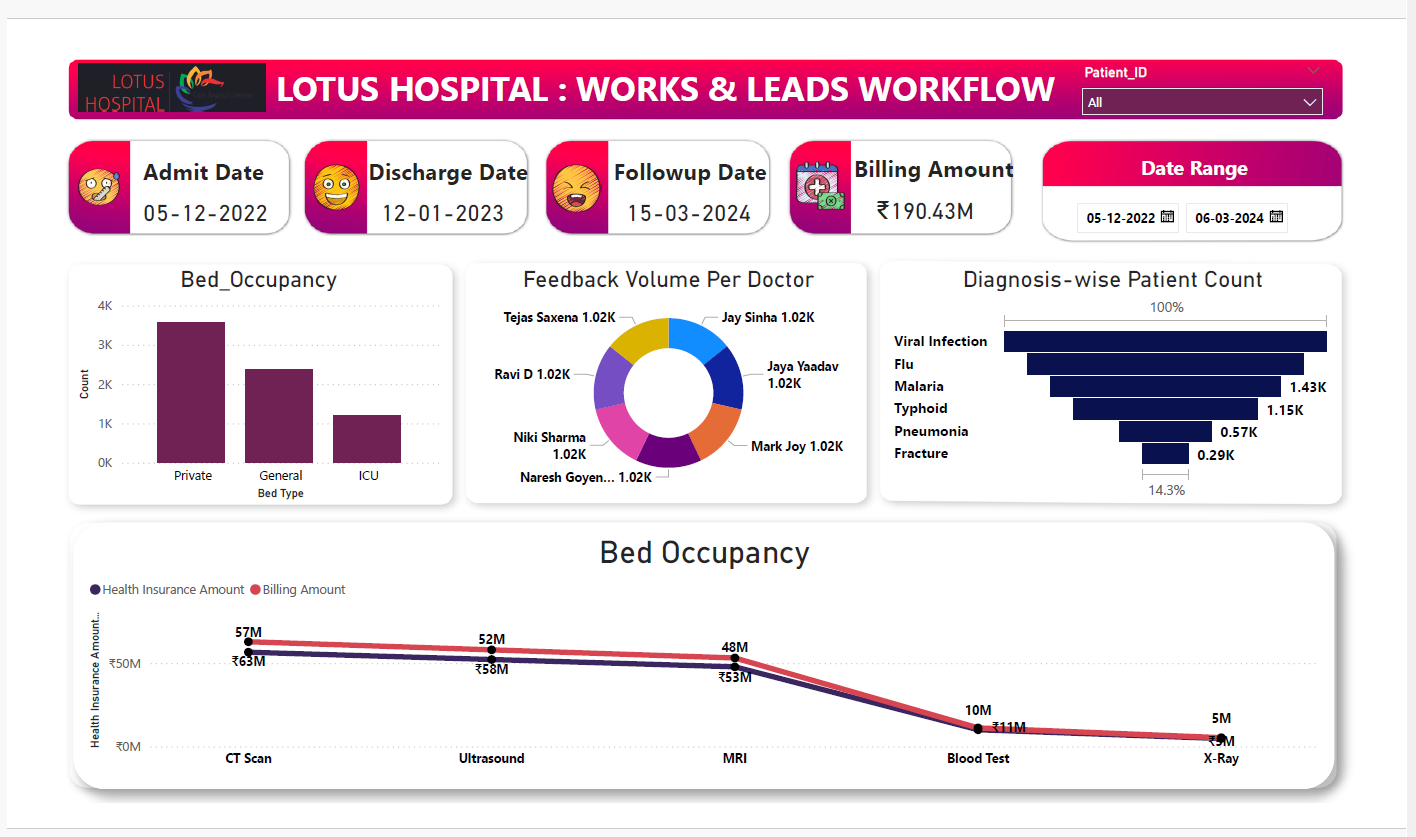

The dashboard page shown, as its layout file describes it:
{"tool":"powerbi","page":{"name":"Page 1","canvas":[1280,720],"ordinal":0},"visuals":[{"type":"image","box":[38.6,0,187,82],"z":0},{"type":"textbox","box":[225.6,14.5,849.3,54.3],"z":1000},{"type":"slicer","fields":{"Values":["Sheet1.Patient_ID"]},"box":[985.7,14.5,249.7,54.3],"z":2000},{"type":"cardVisual","fields":{"Data":["Sheet1.Admit_Date"]},"box":[88.1,123.1,154.4,57.9],"z":3000},{"type":"textbox","box":[100.1,101.3,162.9,50.7],"z":4000},{"type":"cardVisual","fields":{"Data":["Sheet1.Discharge_Date"]},"box":[313.7,123.1,154.4,57.9],"z":5000},{"type":"textbox","box":[313.7,101.3,173.7,50.7],"z":6000},{"type":"cardVisual","fields":{"Data":["Sheet1.Followup Date"]},"box":[546.5,123.1,154.4,57.9],"z":7000},{"type":"textbox","box":[546.5,101.3,173.7,50.7],"z":8000},{"type":"textbox","box":[774.5,97.7,173.7,50.7],"z":9000},{"type":"cardVisual","fields":{"Data":["Sheet1.Billing Amount"]},"box":[784.2,119.4,137.5,57.9],"z":10000},{"type":"image","box":[38.6,101.3,49.5,67.6],"z":11000},{"type":"image","box":[254.6,108.6,67.6,54.3],"z":12000},{"type":"image","box":[487.4,108.6,59.1,56.7],"z":13000},{"type":"image","box":[720.2,101.3,55.5,65.1],"z":14000},{"type":"textbox","box":[1026.7,98.9,152,37.4],"z":15000},{"type":"slicer","fields":{"Values":["Sheet1.Admit_Date"]},"box":[978.8,141.2,247.5,56.2],"z":16000},{"type":"columnChart","title":"Bed_Occupancy ","fields":{"Y":["Sheet1.Bed_Occupancy"],"Category":["Sheet1.Bed_Occupancy"]},"box":[38.6,209.9,352.3,226.8],"z":17000},{"type":"donutChart","title":"Feedback Volume Per Doctor","fields":{"Category":["Sheet1.Doctor"],"Y":["Sheet1.Doctor"]},"box":[412.6,209.9,382.4,218.4],"z":18000},{"type":"funnel","title":"Diagnosis-wise Patient Count","fields":{"Category":["Sheet1.Diagnosis"],"Y":["Sheet1.Diagnosis"]},"box":[813.1,209.9,425.9,226.8],"z":19000},{"type":"lineChart","title":"Bed Occupancy","fields":{"Y":["Sheet1.Health Insurance Amount","Sheet1.Billing Amount"],"Category":["Sheet1.Test"]},"box":[38.6,454.3,1197.1,252.9],"z":20000}]}

Visuals, with their boxes on the page's 1280x720 design canvas (x1, y1, x2, y2). These are canvas units, not pixel positions in the 1416x837 screenshot, which may show the page scaled, cropped or inside an application window:
image: bbox=[39, 0, 226, 82]
textbox: bbox=[226, 14, 1075, 69]
slicer - Sheet1.Patient_ID: bbox=[986, 14, 1235, 69]
cardVisual - Sheet1.Admit_Date: bbox=[88, 123, 242, 181]
textbox: bbox=[100, 101, 263, 152]
cardVisual - Sheet1.Discharge_Date: bbox=[314, 123, 468, 181]
textbox: bbox=[314, 101, 487, 152]
cardVisual - Sheet1.Followup Date: bbox=[546, 123, 701, 181]
textbox: bbox=[546, 101, 720, 152]
textbox: bbox=[774, 98, 948, 148]
cardVisual - Sheet1.Billing Amount: bbox=[784, 119, 922, 177]
image: bbox=[39, 101, 88, 169]
image: bbox=[255, 109, 322, 163]
image: bbox=[487, 109, 546, 165]
image: bbox=[720, 101, 776, 166]
textbox: bbox=[1027, 99, 1179, 136]
slicer - Sheet1.Admit_Date: bbox=[979, 141, 1226, 197]
"Bed_Occupancy " columnChart: bbox=[39, 210, 391, 437]
"Feedback Volume Per Doctor" donutChart: bbox=[413, 210, 795, 428]
"Diagnosis-wise Patient Count" funnel: bbox=[813, 210, 1239, 437]
"Bed Occupancy" lineChart: bbox=[39, 454, 1236, 707]
